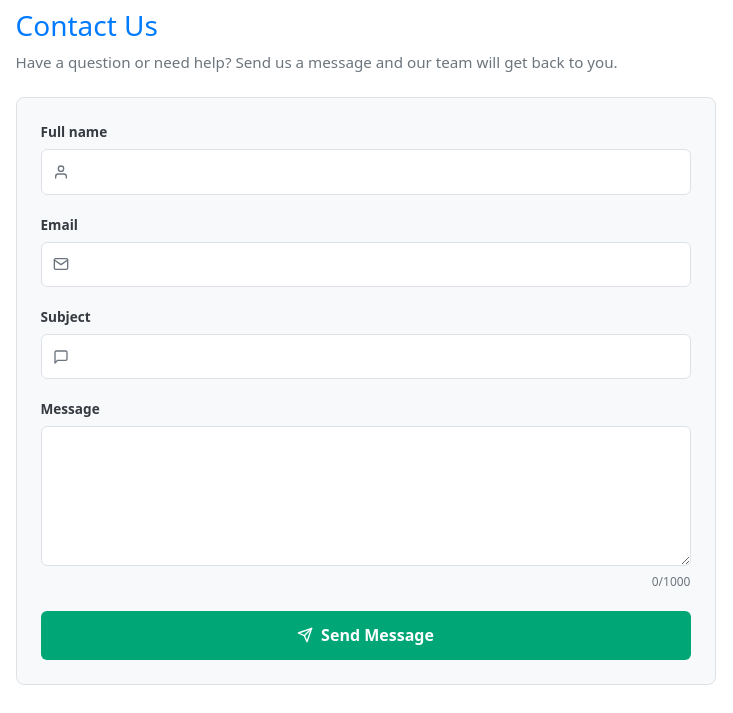
Contact › shows all required-field errors and focuses the first invalid field on empty submission
Click the button "Send Message": point(366, 635) x1=40 y1=611 x2=690 y2=660
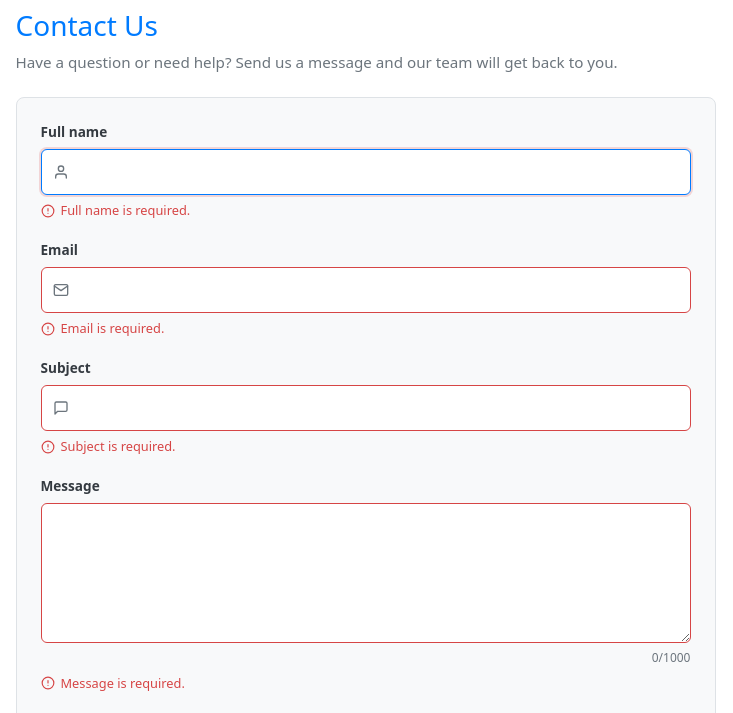
Result: the text "Full name is required." is shown at x1=60 y1=201 x2=190 y2=220
Result: the text "Email is required." is shown at x1=60 y1=319 x2=164 y2=338
Result: the text "Subject is required." is shown at x1=60 y1=437 x2=176 y2=456
